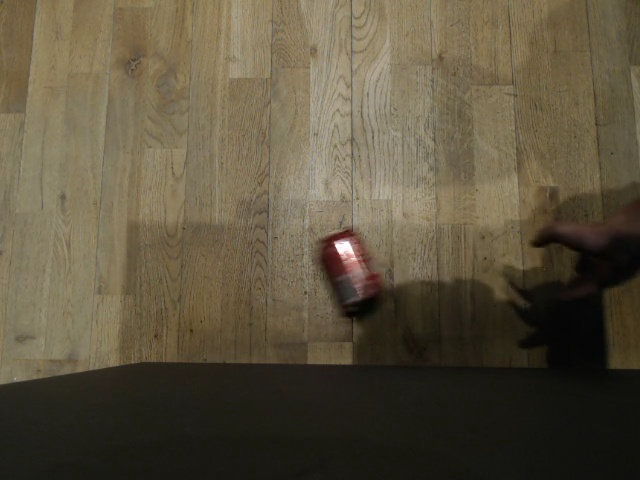cola: (319, 229, 384, 313)
